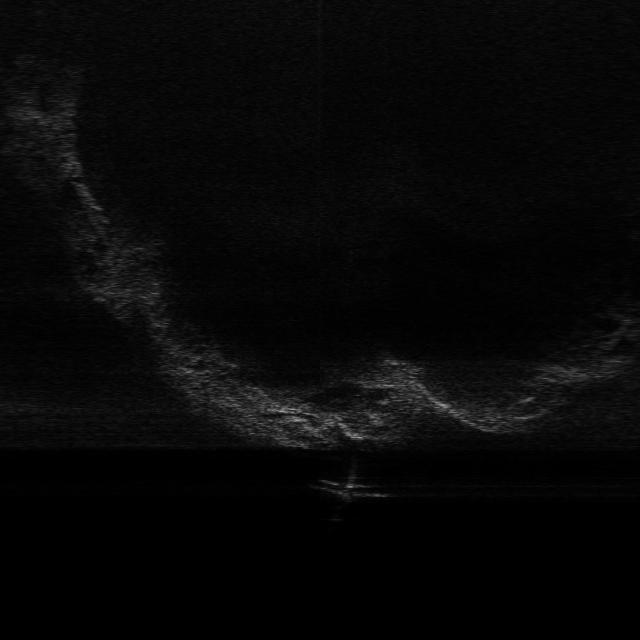plane: (310, 476, 392, 504)
